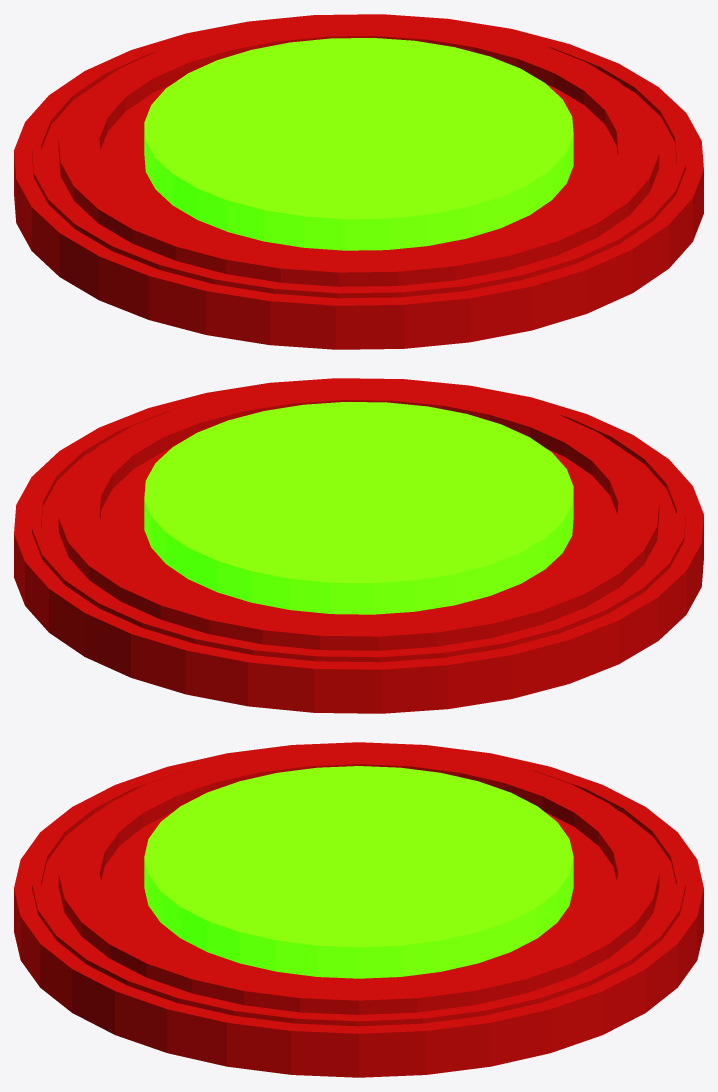
Rendered from jumpad.gltf.
The picture shows the model from 3 angles, top to bottom: view 1: azimuth 30°, elevation 25°; view 2: azimuth 150°, elevation 25°; view 3: azimuth 270°, elevation 25°; orthographic projection.
Parts seen in each view (by area): view 1: Cylinder; view 2: Cylinder; view 3: Cylinder.
Part boxes in pixels (<box>): Cylinder: <box>14,14,703,349</box>; Cylinder: <box>14,378,703,713</box>; Cylinder: <box>14,742,703,1077</box>.
Size of the model in its own units: 2 by 0.2408 by 2.
